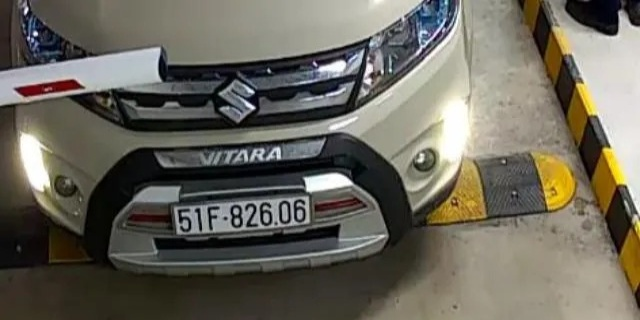bien_so: (173, 199, 309, 229)
